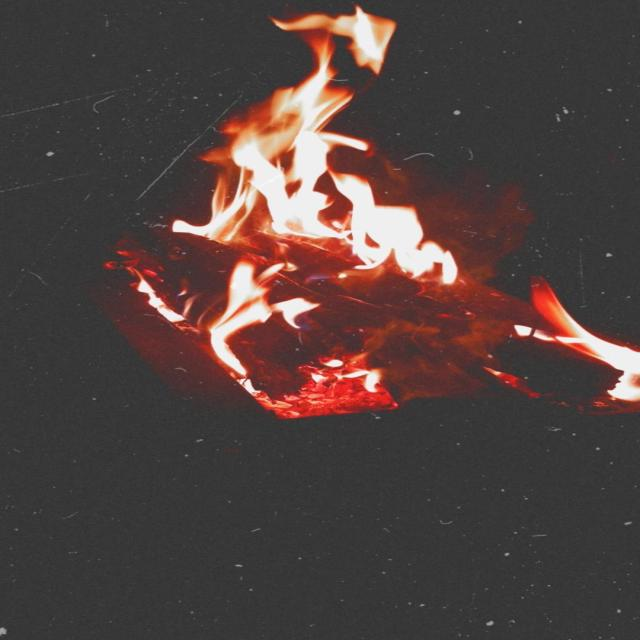Fire: (66, 0, 640, 441)
